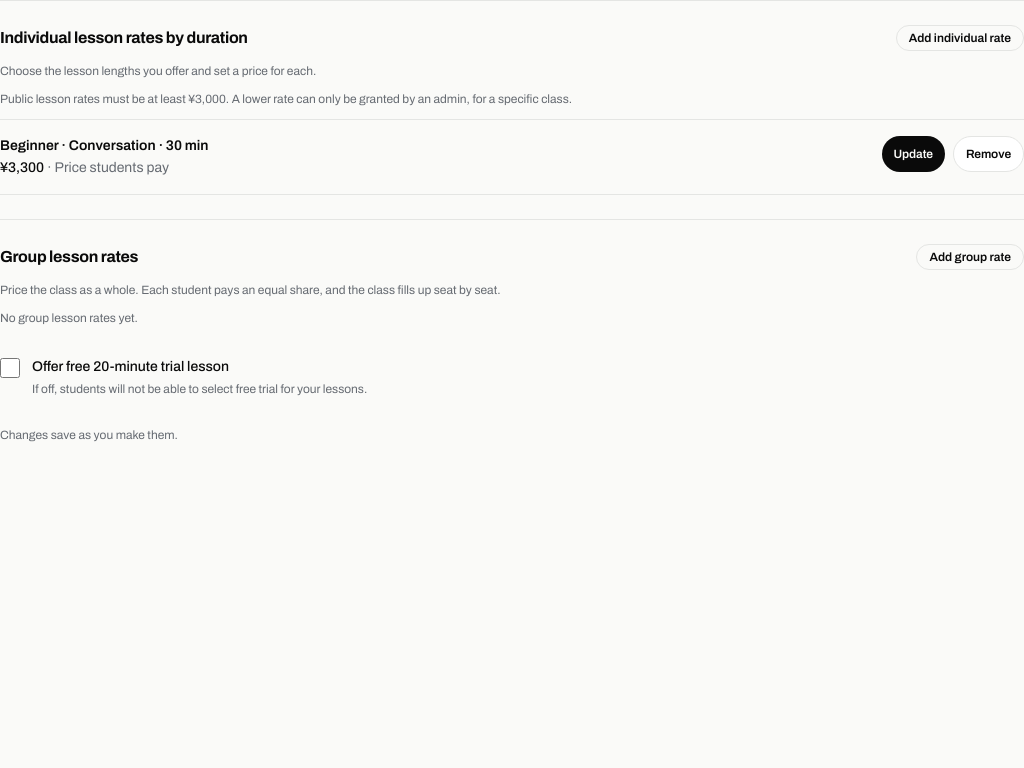
Test: TeacherLessonOfferingsForm — editing › updates the row in place once the dialog saves
Click the button "Update" at (913, 154), box [882,136,945,172]
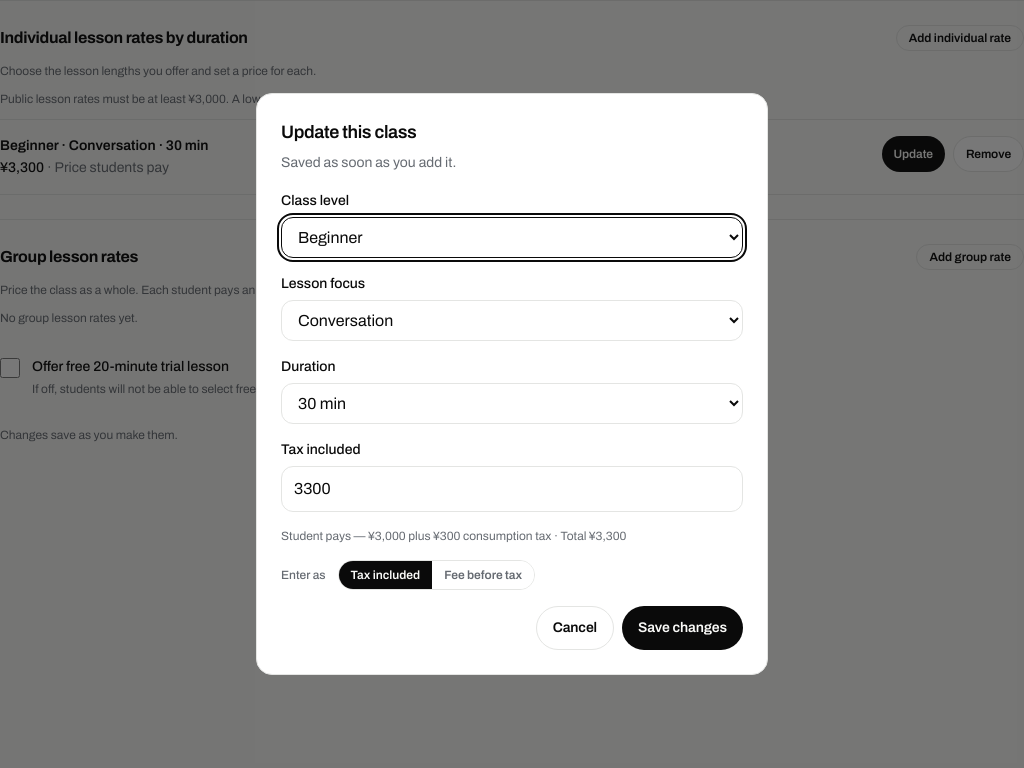
Replace the text in the field showing "3300" with "5500" at (512, 489), box [281,466,743,512]
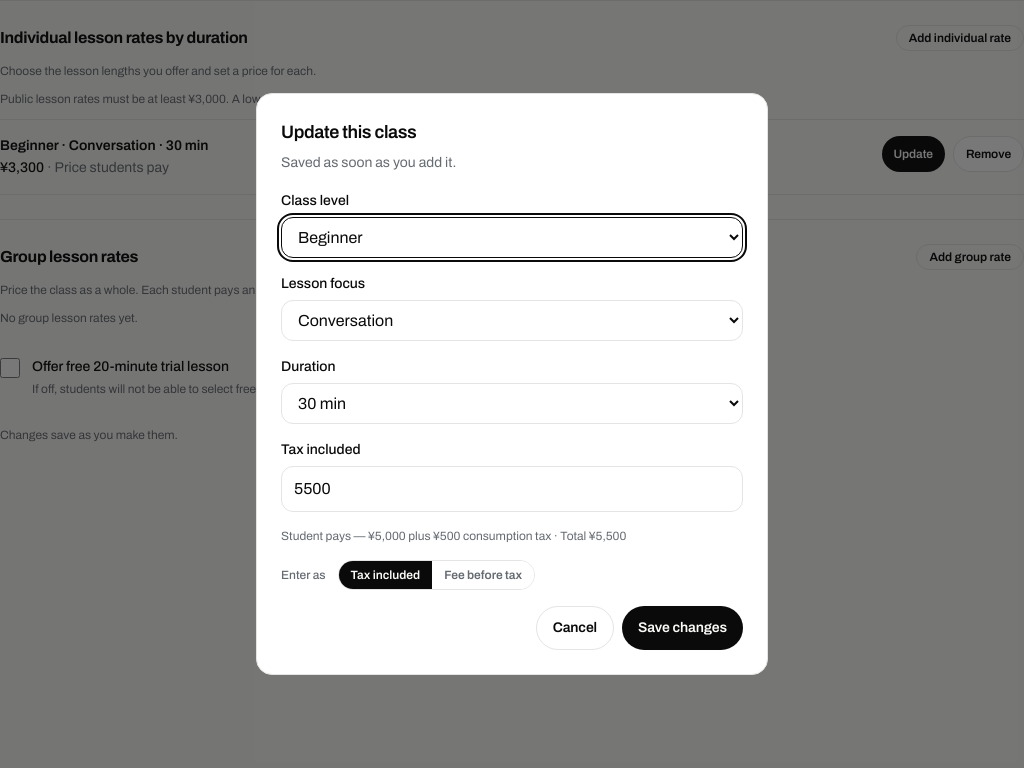
Click the button "Save changes" at (682, 628), box [622,606,743,650]
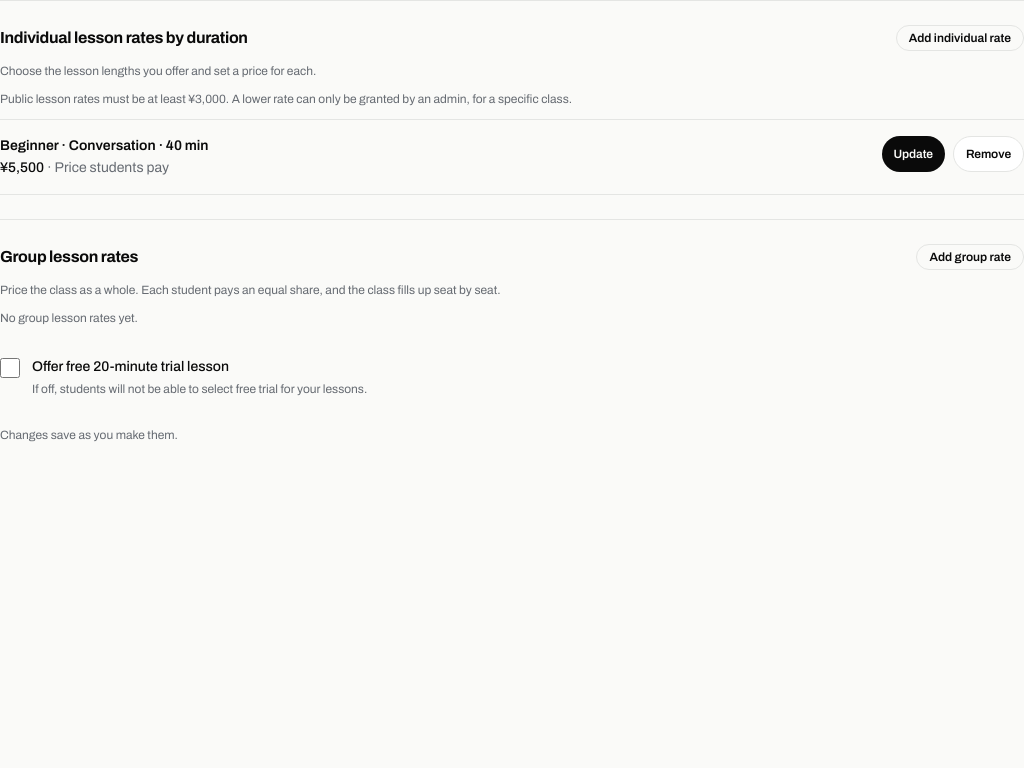
Expected: the text "Beginner · Conversation · 40 min" is shown, [0,138,208,153]
Expected: the text "¥5,500" is shown, [0,160,44,175]
Expected: the text "Beginner · Conversation · 30 min" is gone
